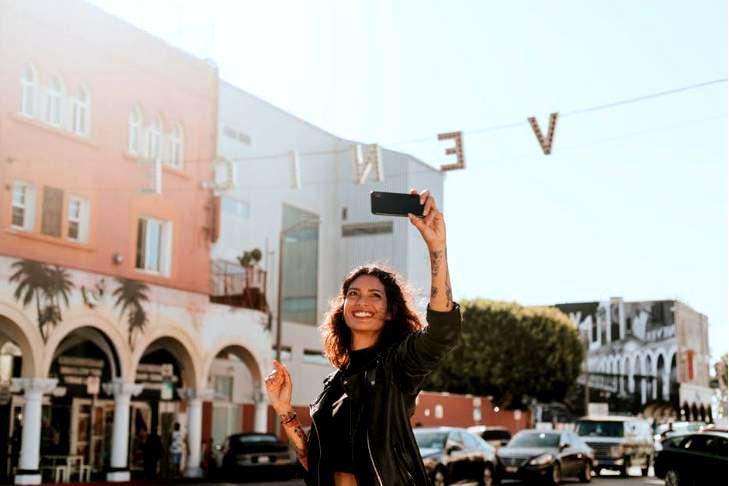face: (343, 276, 386, 332)
